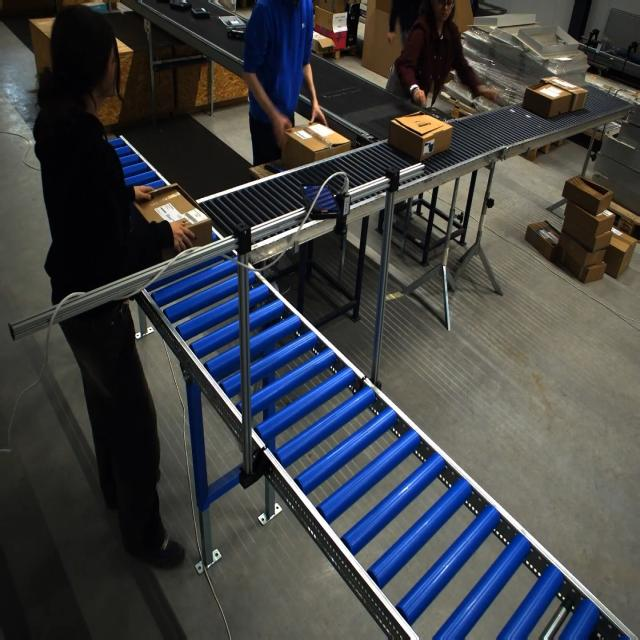box: (132, 183, 211, 258), (386, 113, 451, 163), (282, 122, 343, 169), (306, 121, 350, 148)
product: (217, 15, 245, 28), (169, 0, 192, 11), (191, 7, 211, 19), (227, 28, 245, 40)
